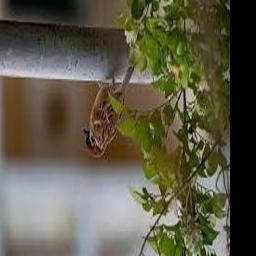Sparrow: (84, 67, 135, 158)
